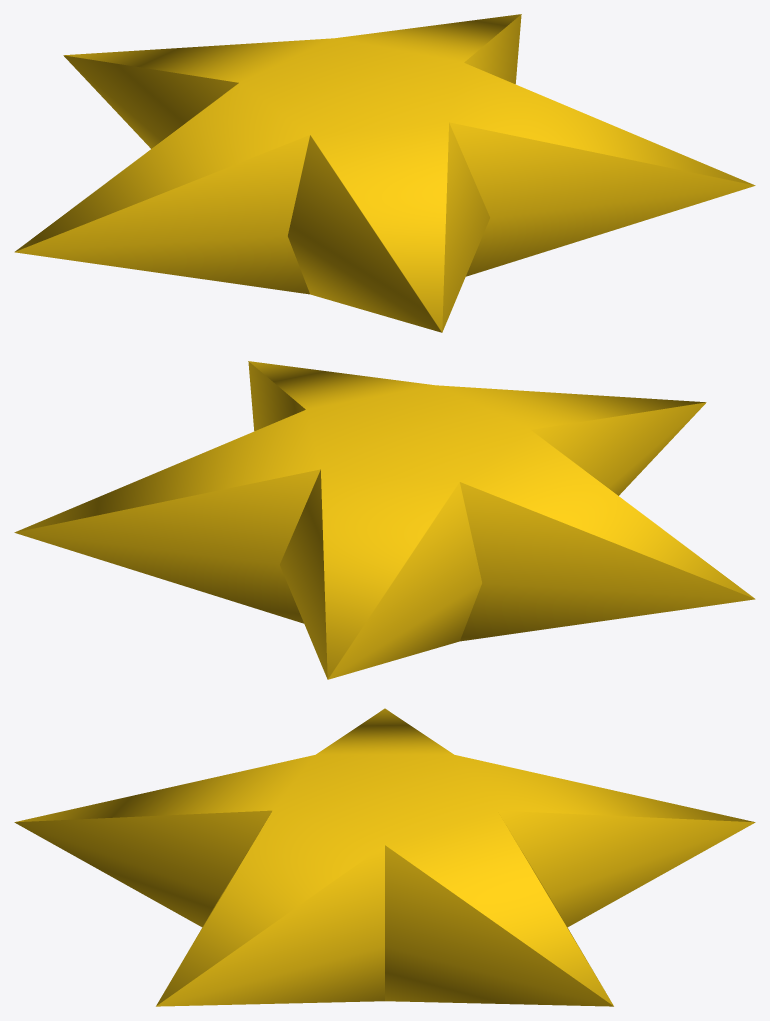
File: star.FBX
3 views of the same model, one above another, from view 1: azimuth 30°, elevation 25°; view 2: azimuth 150°, elevation 25°; view 3: azimuth 270°, elevation 25° (orthographic). The views are drawn at different scales.
Parts seen in each view (by area): view 1: Cylinder001; view 2: Cylinder001; view 3: Cylinder001.
Boxes of the visible parts, x1,y1,x2,y2 form: Cylinder001: (14,14,755,332); Cylinder001: (14,361,755,679); Cylinder001: (14,708,755,1006).
Size of the model in its own units: 40.96 by 10 by 43.07.
